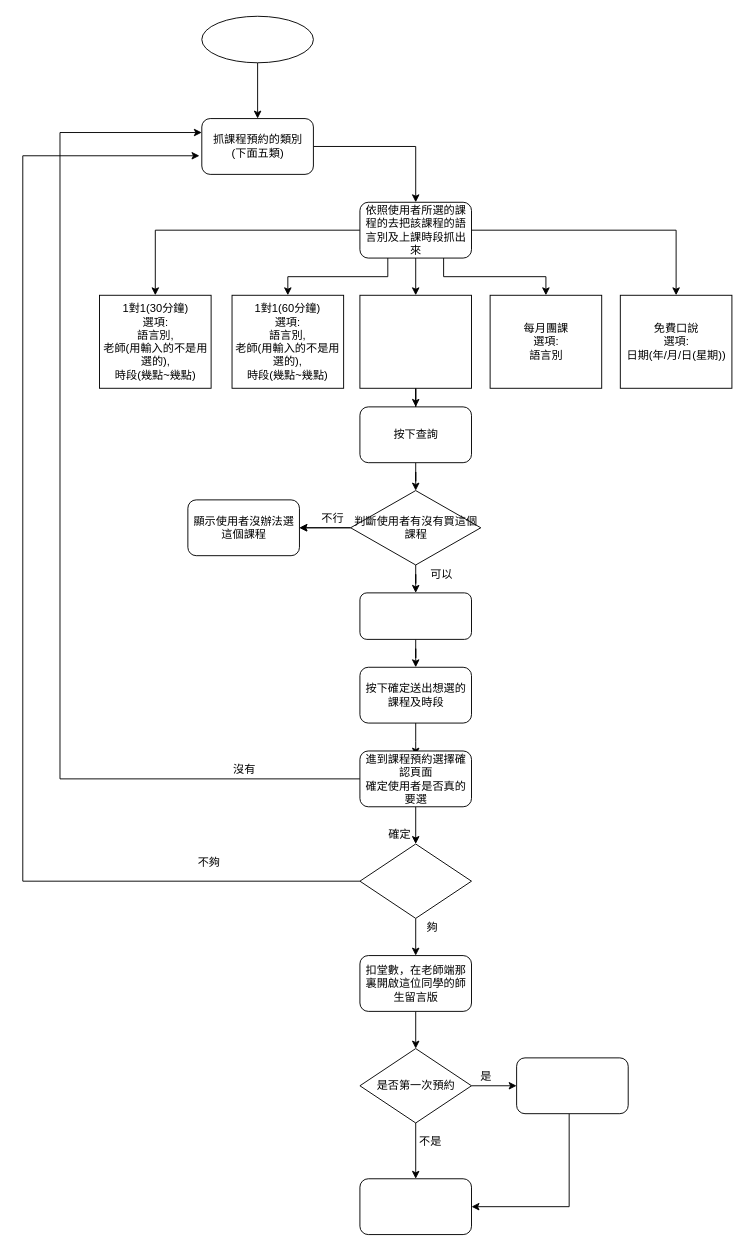
The diagram is 749 pixels wide and 1251 high, and some of its shapes have lost their labels. Each missing label, with the centre of its shape:
"出現所選擇的老師及時段" belongs at point (415, 615).
"判斷使用者堂數夠不夠" belongs at point (415, 880).
"學生端: 課程預約 stdselct_admin.php" belongs at point (257, 39).
"寄信給管理員，告知有同學首次預約某位老師課程" belongs at point (572, 1085).
"寄信給老師跟學生，通知老師有人預約課程。 通知學生預約成功" belongs at point (415, 1206).
"每週團課 選項: 語言別, 時段(幾點幾分-幾點幾分)" belongs at point (415, 341).
